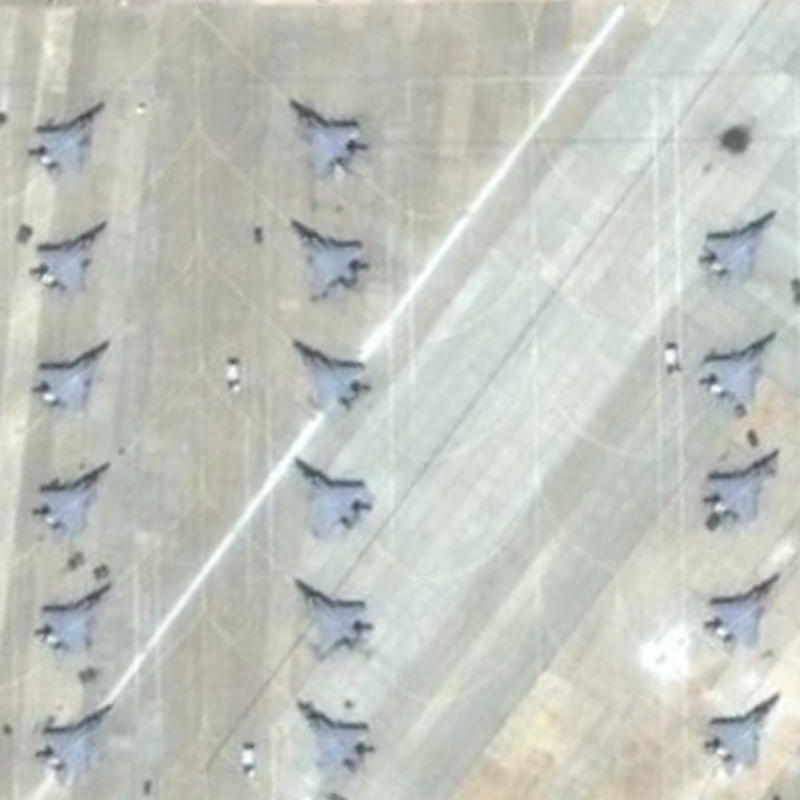A13: (287, 452, 376, 540), (286, 91, 372, 181), (293, 696, 382, 781), (701, 687, 783, 779), (287, 331, 374, 417), (288, 211, 373, 298), (290, 574, 375, 660), (697, 330, 780, 418), (702, 569, 785, 657), (34, 701, 116, 789), (26, 459, 115, 540), (24, 219, 112, 300), (26, 97, 106, 184), (697, 206, 782, 286), (700, 448, 783, 529), (27, 338, 114, 415), (27, 581, 116, 655)
